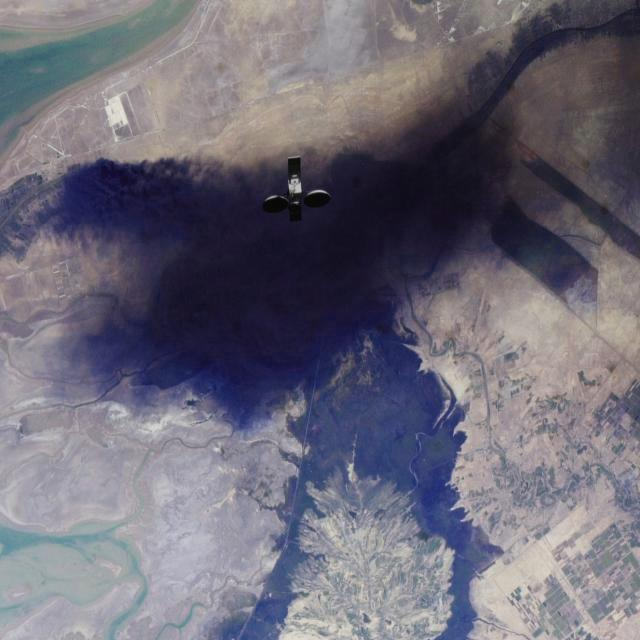medium_debris: (258, 143, 330, 240)
